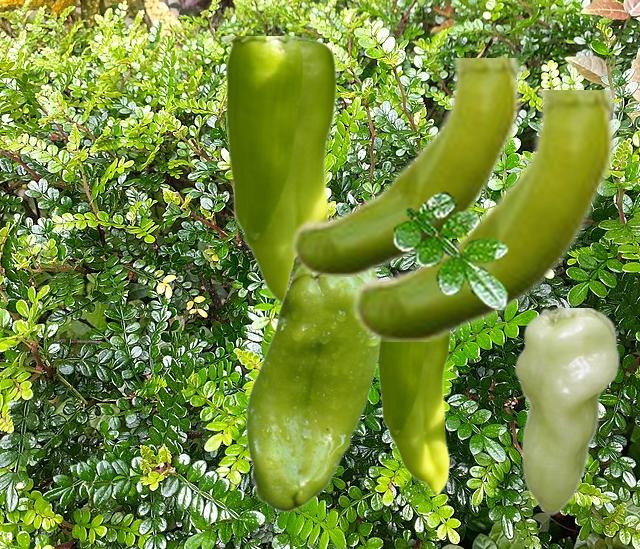green_chili: (350, 90, 619, 340), (289, 58, 523, 275), (245, 260, 380, 511), (220, 36, 335, 304), (512, 308, 618, 514), (376, 338, 449, 494)
